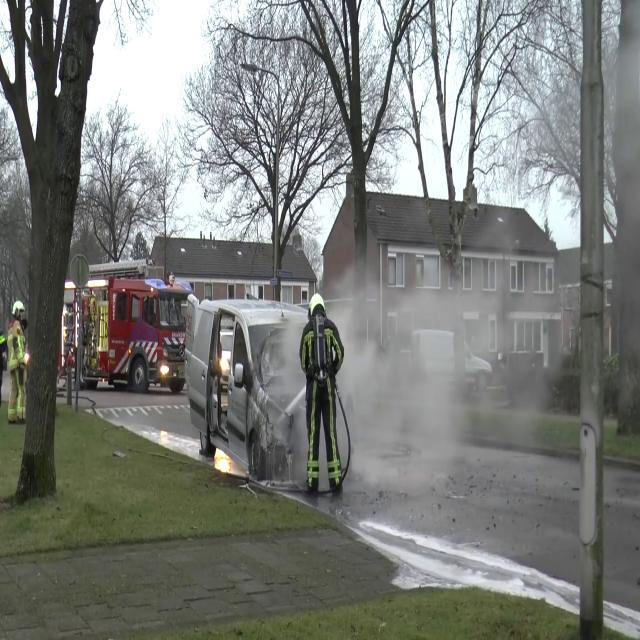Smoke: (338, 217, 566, 520), (604, 1, 640, 414)
